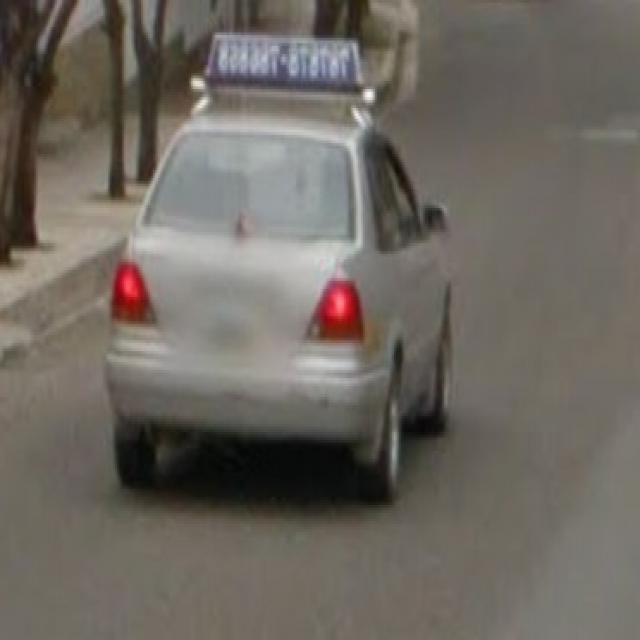car: (104, 97, 456, 501)
